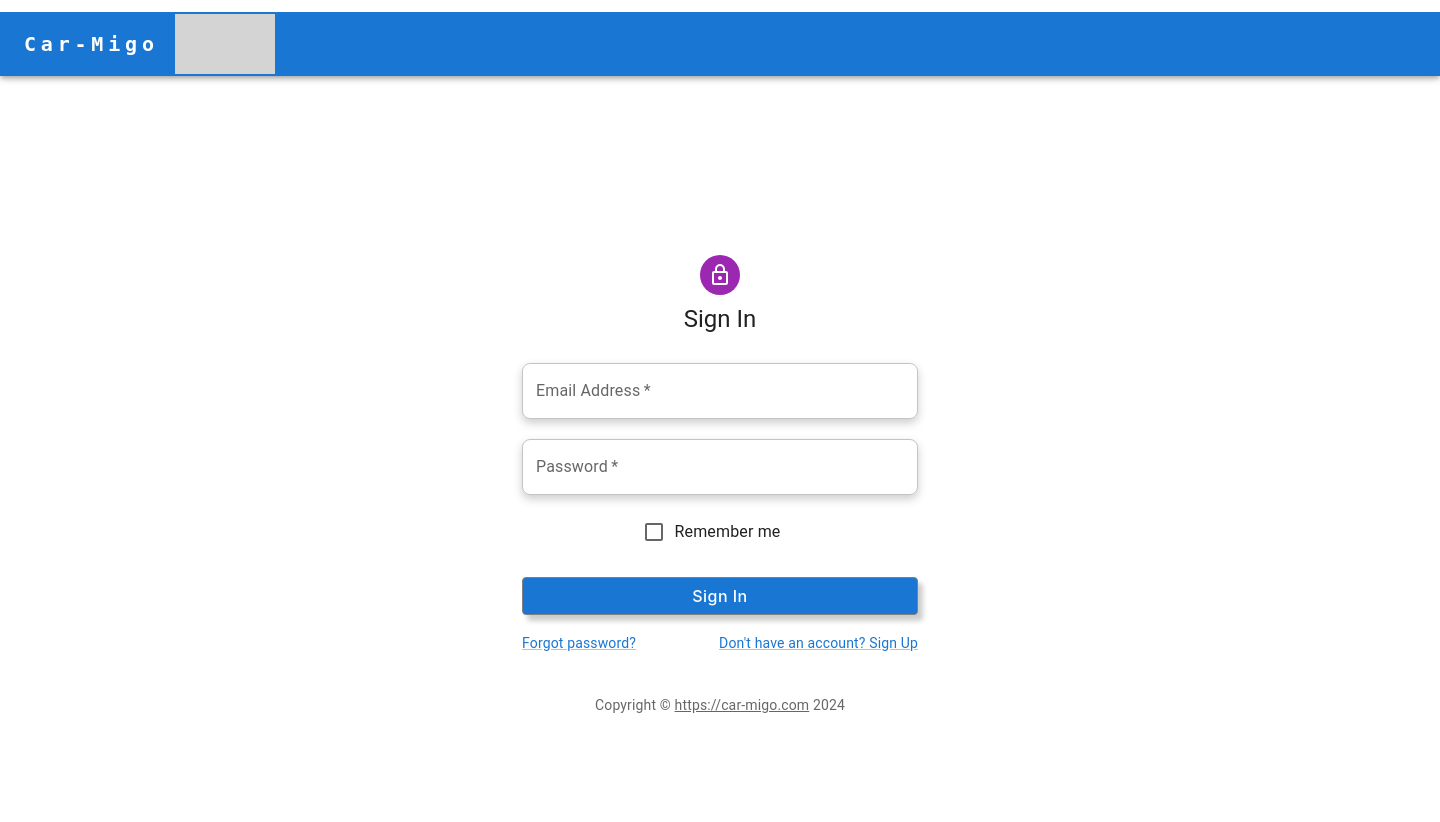
Test case: renders AlertPopUp component › button clicked with invalid data returns 403 FORBIDDEN
Expected: the password field with test id "sign-in-with-password-input" is shown, left=522, top=439, right=918, bottom=495
Expected: the button with test id "submit-button" is shown, left=522, top=577, right=918, bottom=615
Type "foo@example.com" into the field with test id "sign-in-with-email-input" at (720, 391), box left=522, top=363, right=918, bottom=419
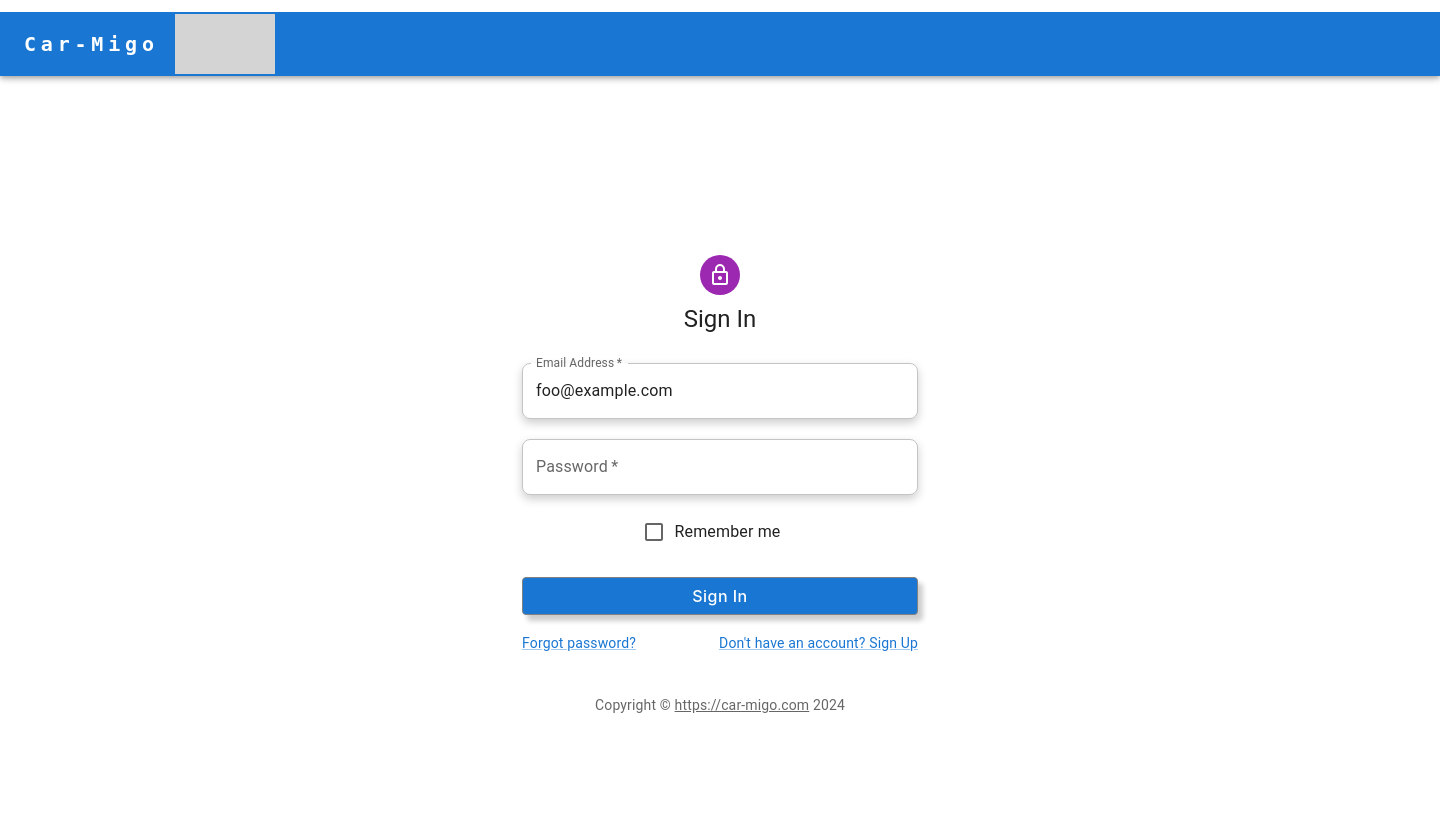
Type "Pass1234!" into the password field with test id "sign-in-with-password-input" at (720, 467), box left=522, top=439, right=918, bottom=495
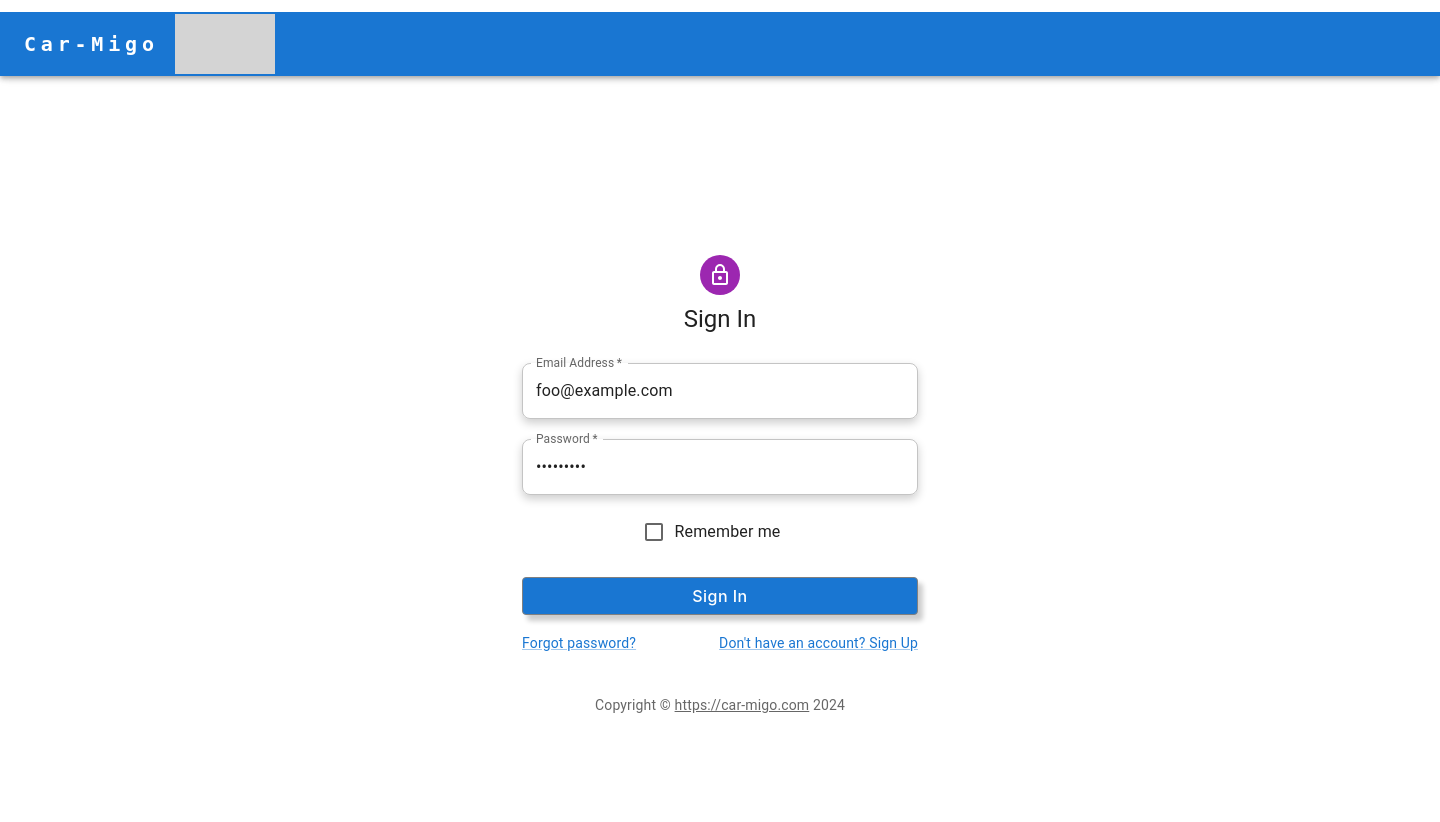
Click the button with test id "submit-button" at (720, 596), box left=522, top=577, right=918, bottom=615
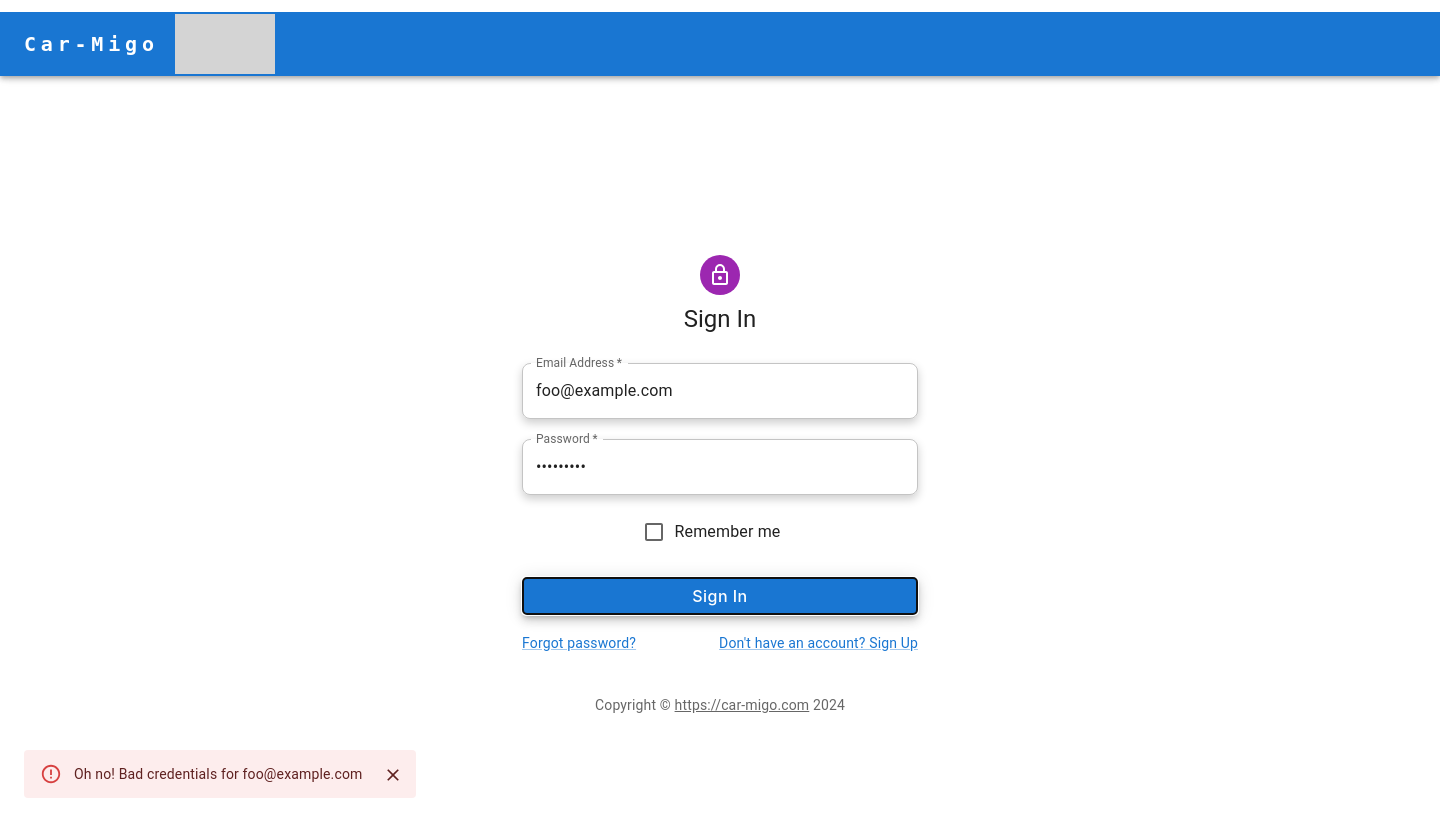
Now the element with test id "alert-pop-up" is shown, box left=24, top=750, right=416, bottom=798
